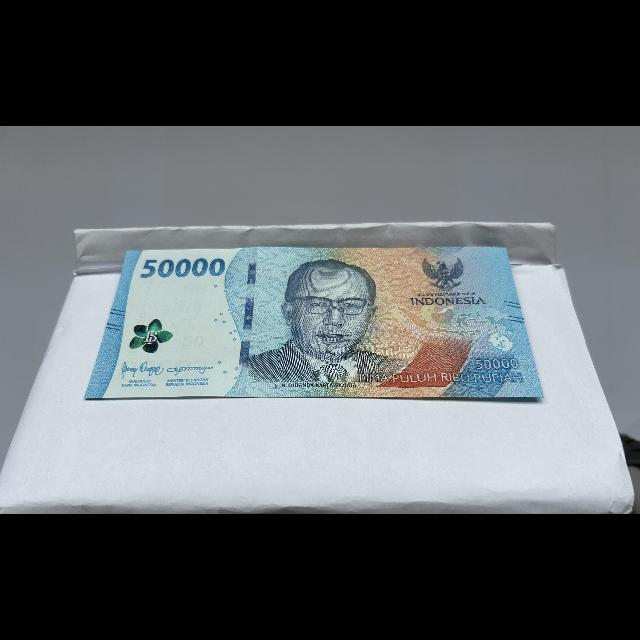Asli-50k: (80, 244, 548, 401)
Tinta-Asli-50k: (128, 313, 177, 359)
